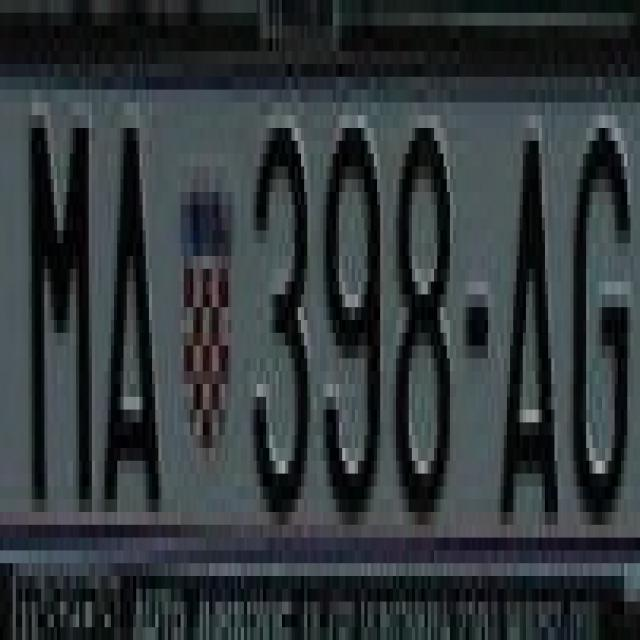3: (250, 128, 308, 538)
8: (396, 90, 460, 538)
9: (323, 115, 380, 525)
A: (500, 115, 560, 538), (108, 90, 158, 512)
G: (580, 90, 630, 512)
M: (26, 90, 98, 524)
